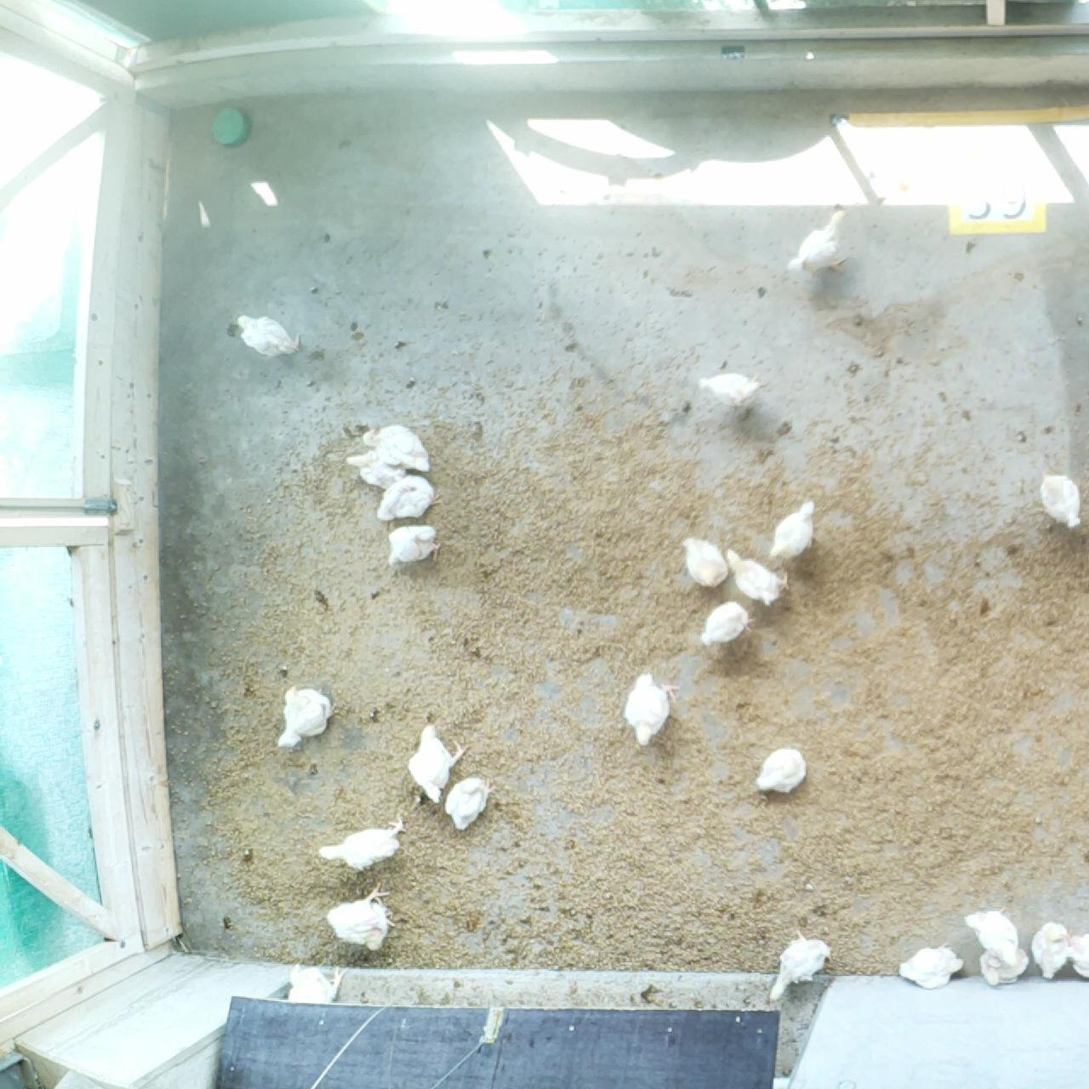chicken: (317, 808, 412, 875), (401, 718, 470, 807), (764, 925, 835, 1010), (323, 879, 399, 955), (783, 208, 860, 279), (622, 670, 684, 748), (273, 681, 337, 753), (724, 542, 793, 608), (369, 472, 447, 525), (360, 420, 435, 474), (893, 938, 967, 992), (231, 309, 306, 362), (766, 495, 822, 564), (961, 904, 1024, 965), (442, 771, 494, 838), (1036, 466, 1086, 534), (342, 446, 410, 495), (381, 520, 445, 570), (694, 367, 766, 410), (678, 532, 731, 590), (752, 744, 811, 796), (697, 600, 757, 648), (1029, 918, 1071, 983), (975, 945, 1030, 989), (1063, 927, 1089, 981)
